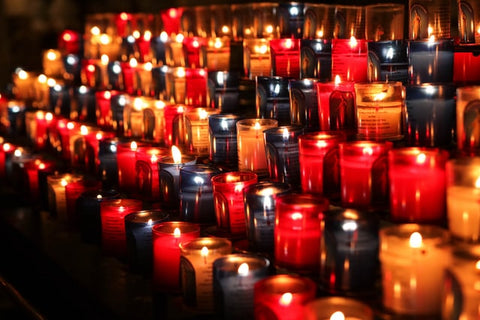Open-Flame-Hazard: (1, 15, 480, 320)
